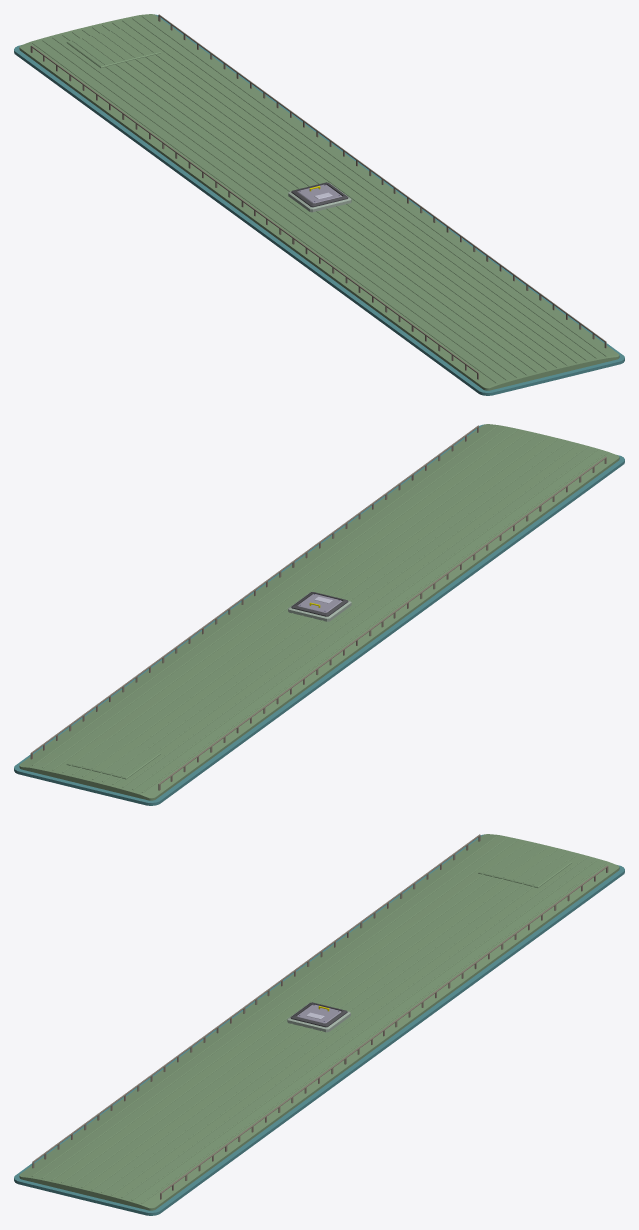
The model's file is Roof_Default.fbx.
3 views of the same model, one above another, from view 1: azimuth 30°, elevation 25°; view 2: azimuth 150°, elevation 25°; view 3: azimuth 330°, elevation 25° (orthographic).
Visible parts, largest first — view 1: polySurface1173; view 2: polySurface1173; view 3: polySurface1173.
Boxes of the visible parts, <box> form: polySurface1173: <box>14,14,624,395</box>; polySurface1173: <box>14,424,624,805</box>; polySurface1173: <box>14,834,624,1215</box>.
Size of the model in its own units: 9.79 by 1.03 by 55.44.
